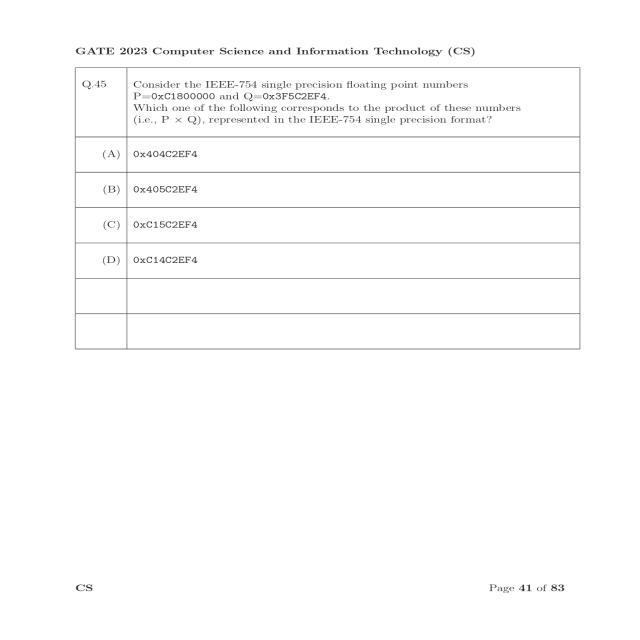Answer_Block: (62, 142, 594, 367)
Question_Answer_Block: (62, 63, 594, 371)
Question_Block: (62, 64, 594, 138)
Question_Paper_Area: (62, 63, 594, 371)
